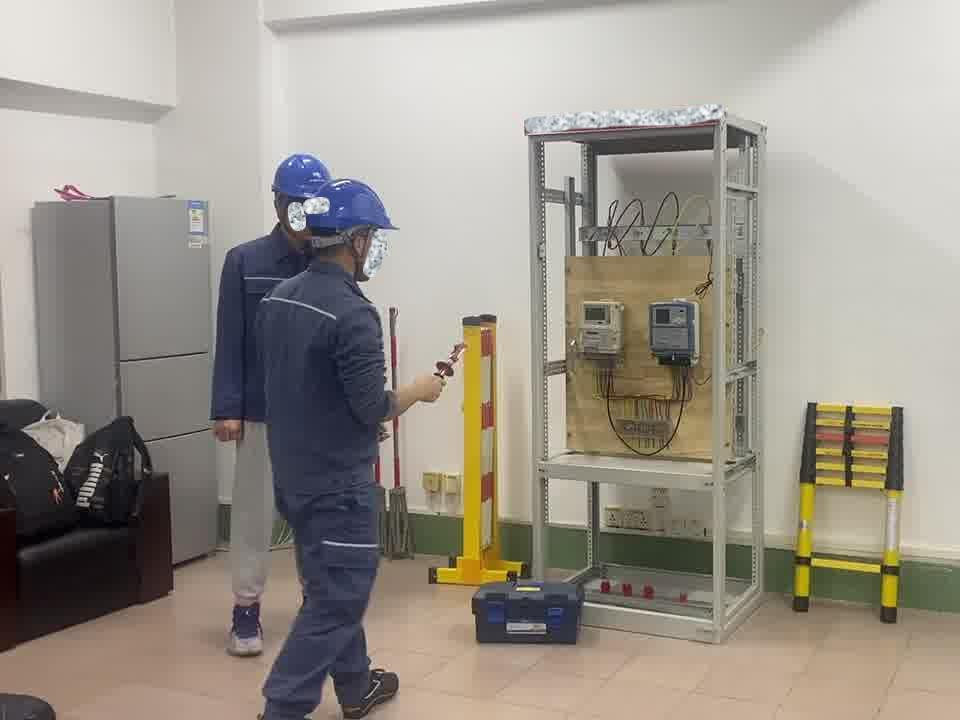halt: (307, 178, 399, 282), (272, 152, 334, 241)
inear: (345, 227, 377, 279)
